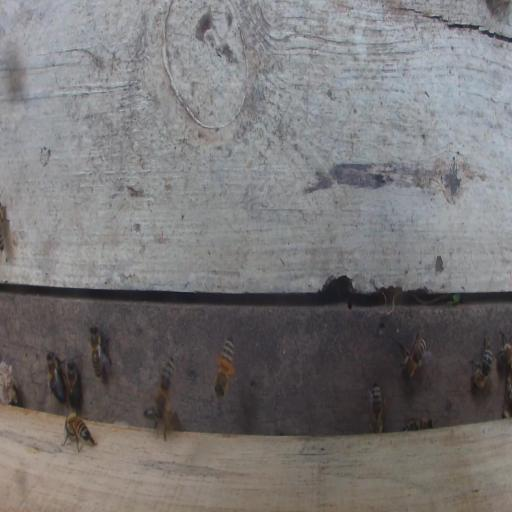bee: (400, 330, 431, 380), (62, 411, 97, 453), (214, 334, 236, 399), (468, 334, 493, 391), (89, 322, 111, 379), (155, 357, 174, 412), (46, 350, 66, 402), (368, 381, 383, 434), (65, 359, 81, 408), (499, 330, 512, 374), (402, 415, 433, 431), (144, 404, 162, 418)
